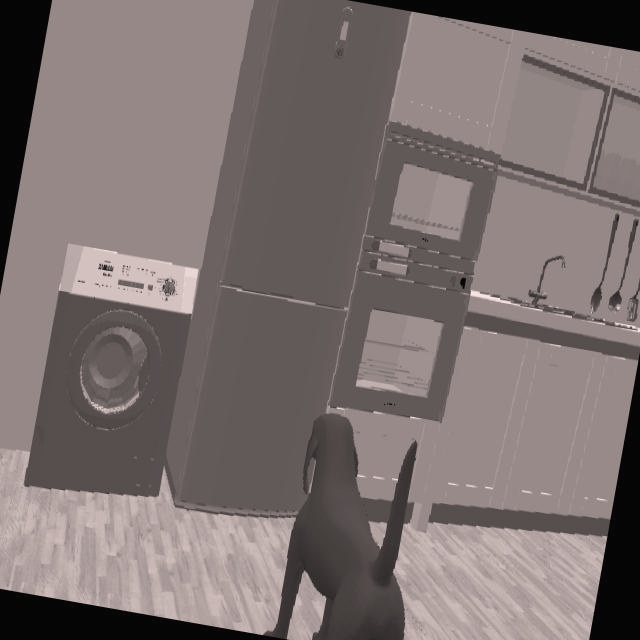cabinet: (345, 328, 638, 528), (389, 12, 640, 216)
countertop: (465, 293, 640, 360)
fridge: (167, 0, 409, 511)
microwave: (366, 123, 498, 271)
oven: (330, 255, 471, 422)
sink: (501, 256, 623, 327)
